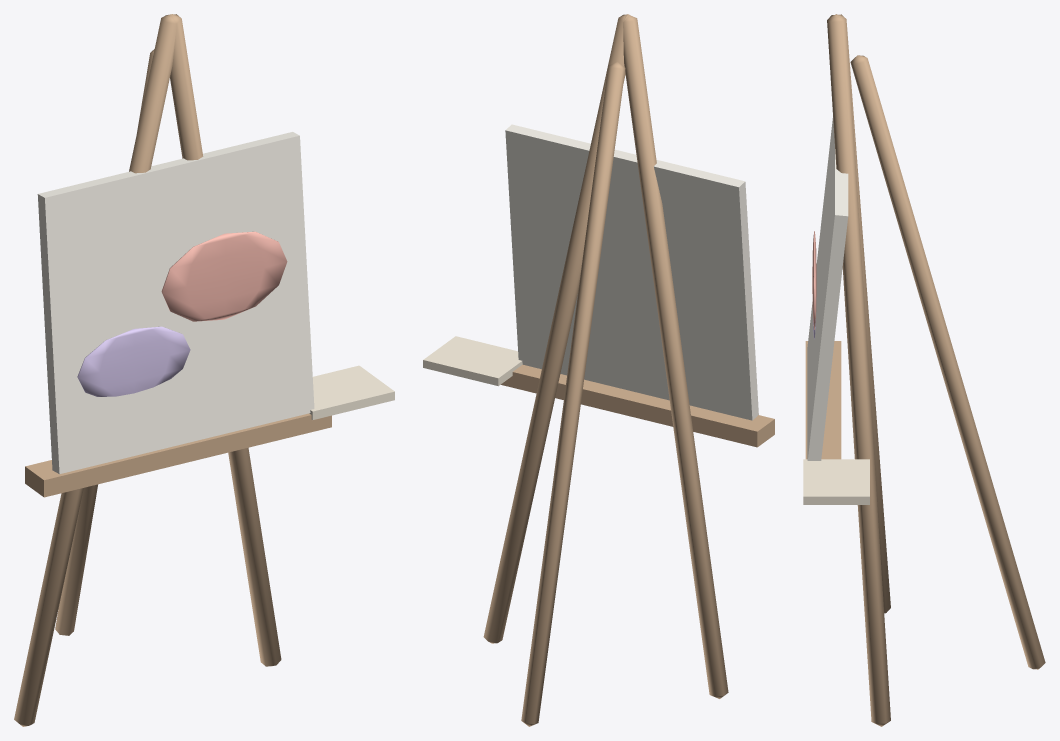
The model's file is cavalete_pintura.glb.
3 views of the same model, side by side, from view 1: azimuth 30°, elevation 25°; view 2: azimuth 150°, elevation 25°; view 3: azimuth 270°, elevation 25° (orthographic). The views are drawn at different scales.
Visible parts, largest first — view 1: cavalete_pintura; view 2: cavalete_pintura; view 3: cavalete_pintura.
Boxes of the visible parts, <box> form: cavalete_pintura: <box>14,14,394,726</box>; cavalete_pintura: <box>423,14,774,726</box>; cavalete_pintura: <box>803,14,1045,726</box>.
Bounding box in the file's own units: 0.85 × 1.63 × 0.5443.
